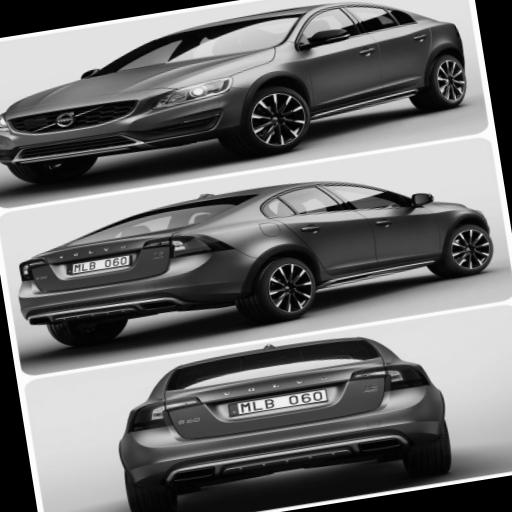Sedan-sDLz: (0, 3, 465, 183), (20, 181, 491, 345), (120, 339, 449, 512)
